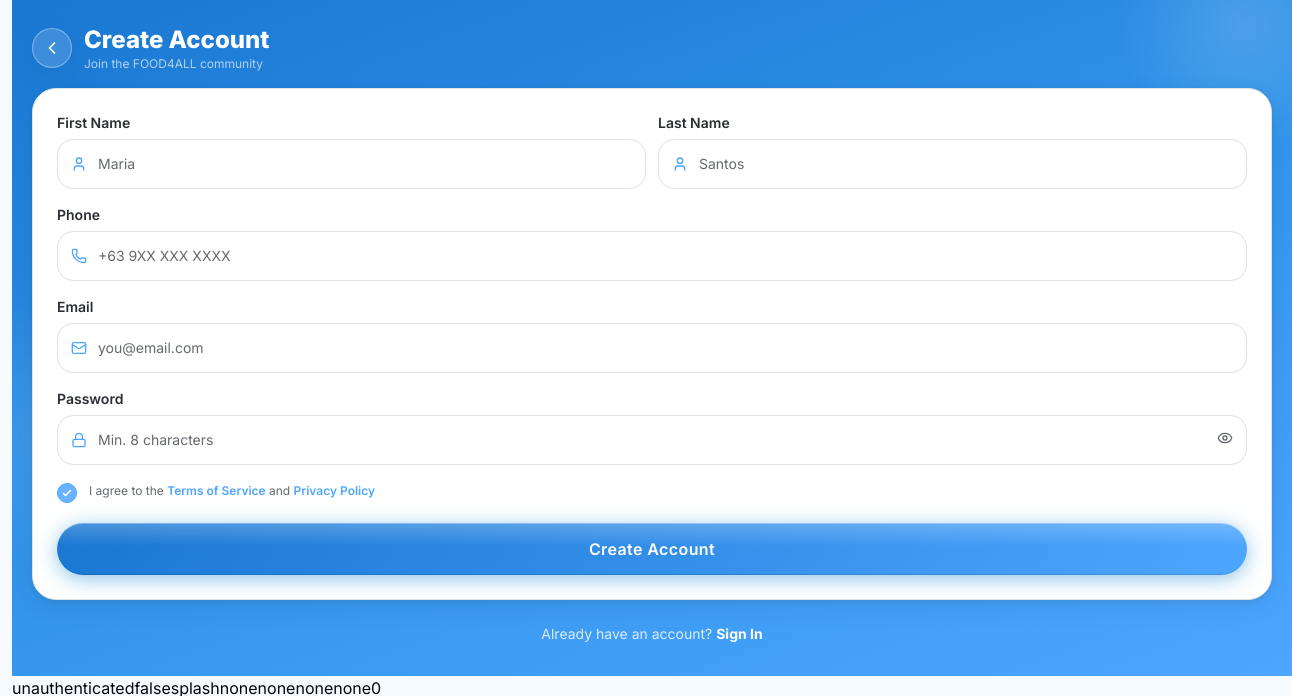
Test: rendered auth screens › shows register validation errors for empty required fields
Click the button "Create Account".
click(652, 549)  # box [57,523,1247,575]
(page scrolled)
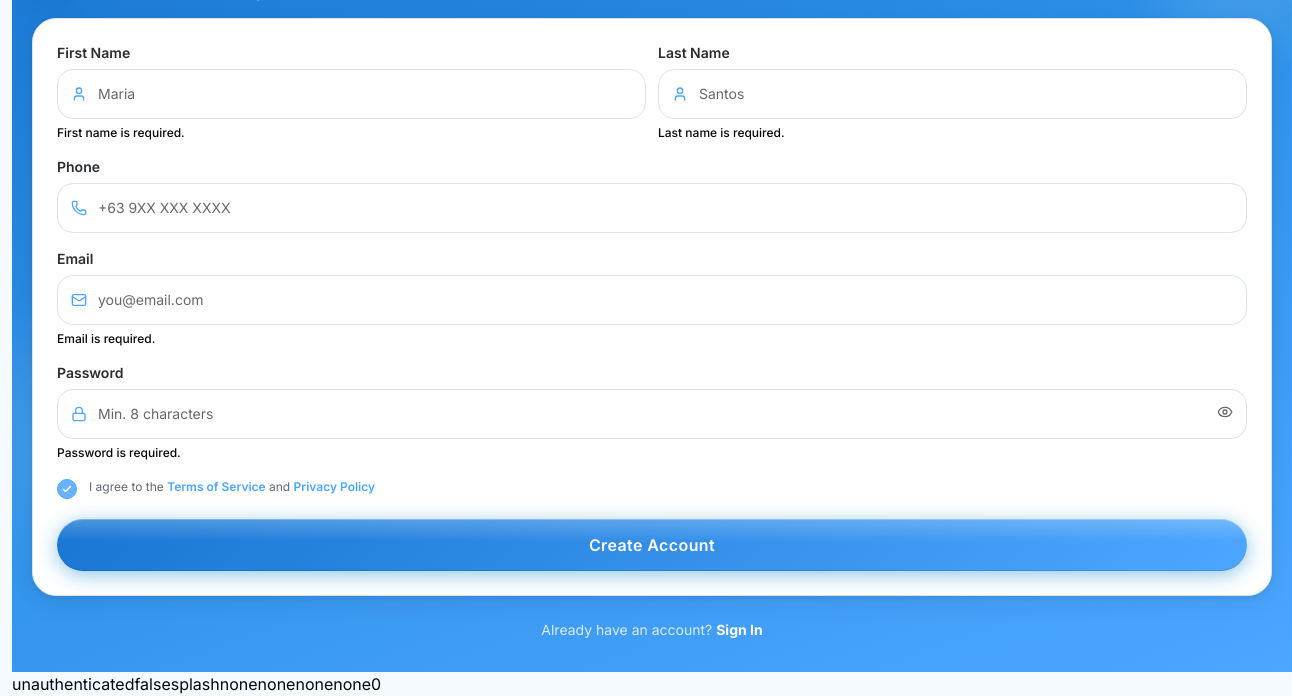
Check: the text "First name is required." is shown, box [57,125,185,140]
Check: the text "Last name is required." is shown, box [658,125,785,140]
Check: the text "Email is required." is shown, box [57,331,155,346]
